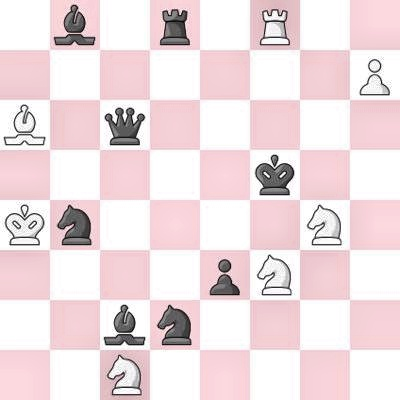black-bishop: (50, 0, 100, 50), (100, 300, 150, 350)
black-king: (250, 150, 300, 200)
black-knight: (50, 200, 100, 250), (150, 300, 200, 350)
black-pawn: (200, 250, 250, 300)
black-queen: (100, 100, 150, 150)
black-rook: (150, 0, 200, 50)
white-bishop: (0, 100, 50, 150)
white-king: (0, 200, 50, 250)
white-knight: (300, 200, 350, 250), (250, 250, 300, 300), (100, 350, 150, 400)
white-pawn: (350, 50, 400, 100)
white-rook: (250, 0, 300, 50)
